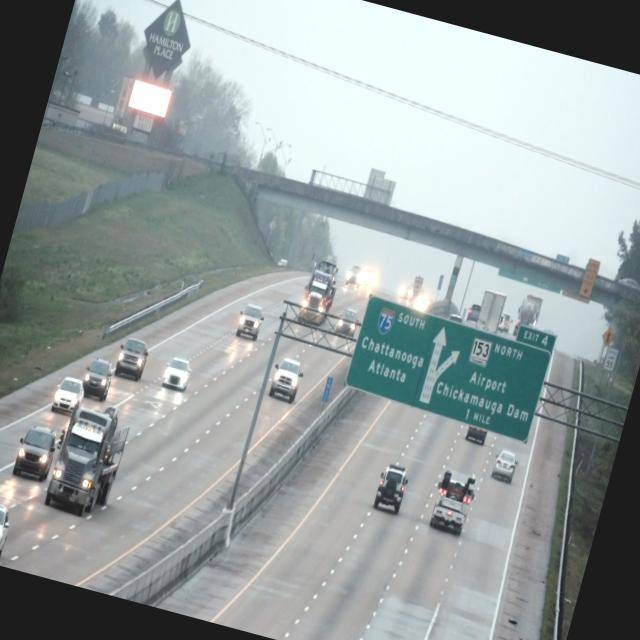Vehicle: (46, 406, 134, 518), (427, 463, 481, 538), (8, 418, 62, 492), (295, 254, 344, 335), (370, 459, 412, 518), (50, 366, 90, 418), (112, 334, 152, 384), (80, 356, 118, 404), (268, 356, 306, 402), (158, 350, 195, 397), (488, 443, 522, 485), (330, 302, 362, 346), (234, 303, 268, 343), (0, 489, 17, 561)
